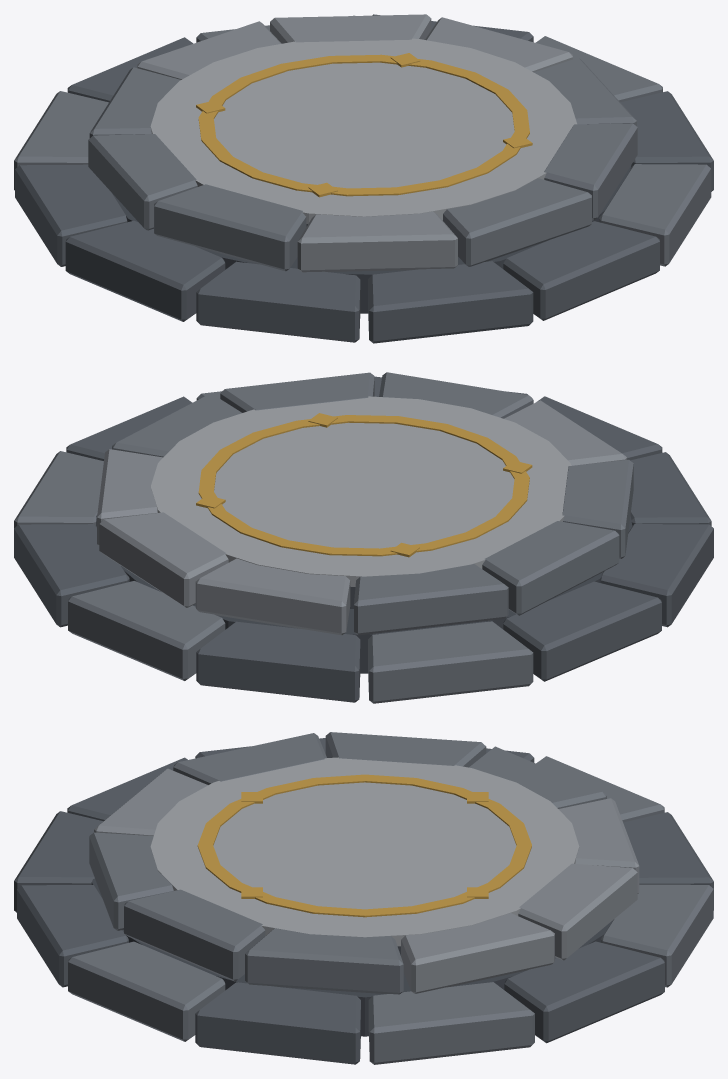
Rendered from Dais.fbx.
The picture shows the model from 3 angles, top to bottom: view 1: azimuth 30°, elevation 25°; view 2: azimuth 150°, elevation 25°; view 3: azimuth 270°, elevation 25°; orthographic projection.
Parts seen in each view (by area): view 1: Rim2, Top, Rim, Rim3, Inlay, Core; view 2: Rim, Top, Rim2, Rim3, Inlay, Core; view 3: Rim, Top, Rim2, Rim3, Inlay, Core.
Part boxes in pixels (bbox=[...]): Rim2: bbox=[15, 14, 713, 343]; Top: bbox=[150, 38, 576, 224]; Rim: bbox=[14, 15, 711, 271]; Rim3: bbox=[137, 14, 572, 272]; Inlay: bbox=[196, 53, 532, 197]; Core: bbox=[111, 164, 632, 313]; Rim: bbox=[14, 372, 633, 703]; Top: bbox=[150, 396, 571, 586]; Rim2: bbox=[14, 376, 713, 702]; Rim3: bbox=[97, 400, 627, 635]; Inlay: bbox=[196, 413, 532, 557]; Core: bbox=[96, 515, 632, 673]; Rim: bbox=[68, 732, 713, 1064]; Top: bbox=[150, 757, 579, 946]; Rim2: bbox=[14, 738, 713, 1064]; Rim3: bbox=[94, 768, 639, 993]; Inlay: bbox=[197, 774, 531, 917]; Core: bbox=[91, 878, 612, 1036].
Size of the model in its own units: 11.01 by 1.33 by 10.97.
